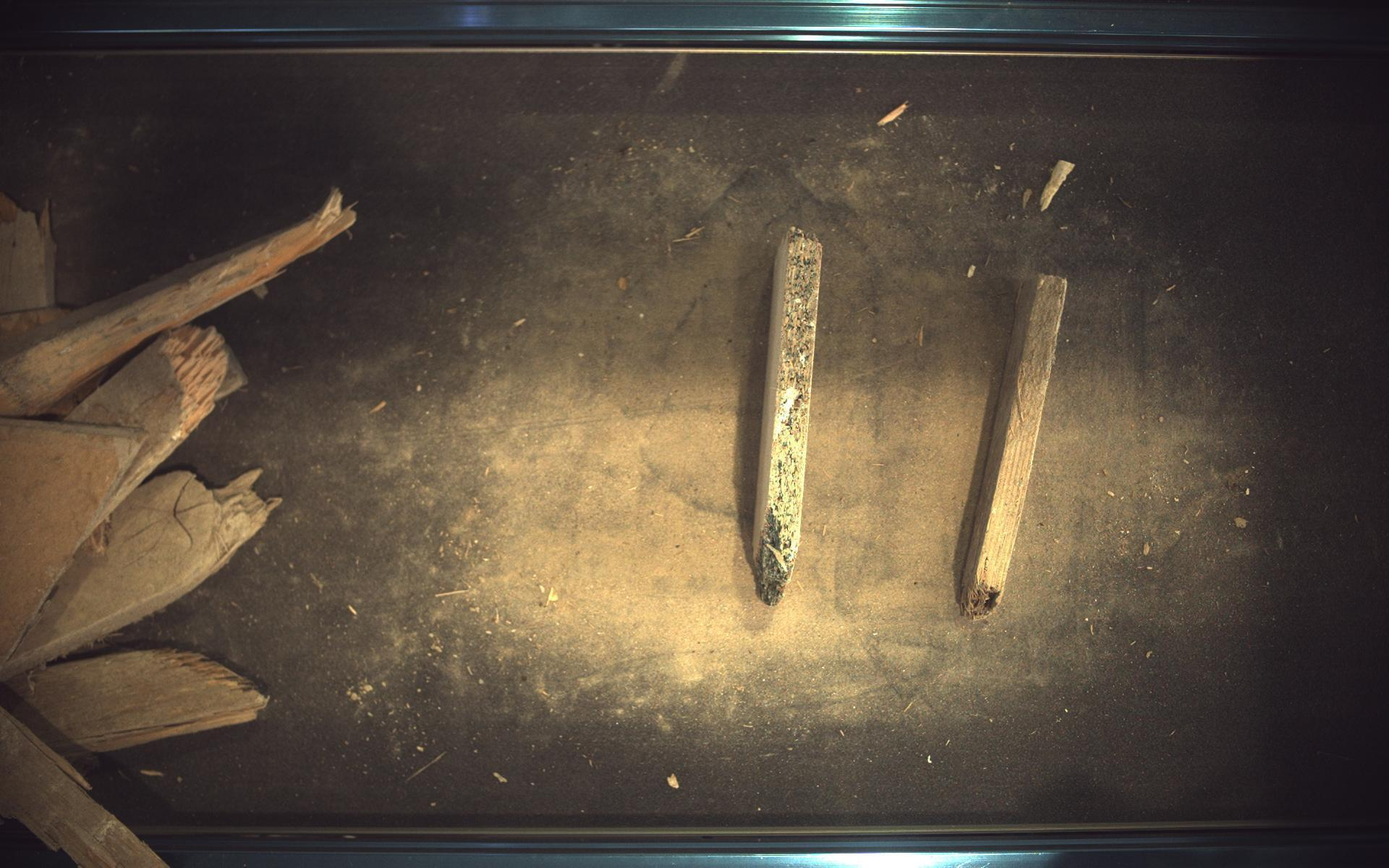wood: (960, 274, 1069, 618), (754, 226, 823, 606)
